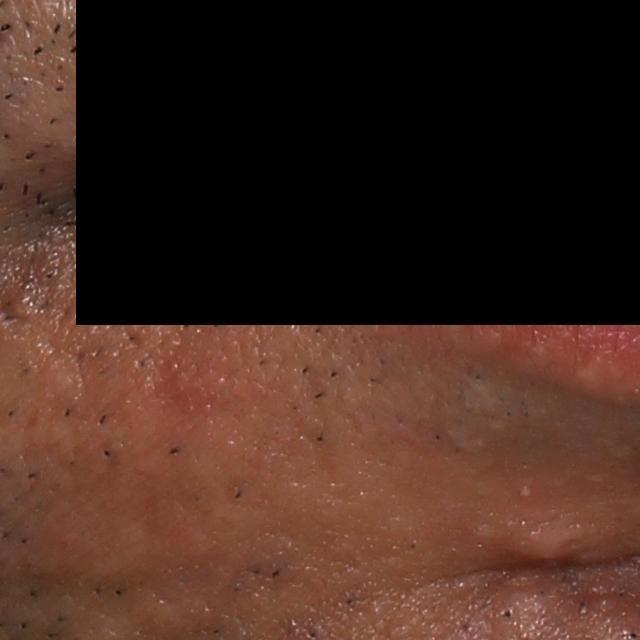hypertrophic_scar: (172, 418, 276, 545), (60, 513, 177, 584), (484, 502, 620, 561), (488, 565, 565, 639), (135, 584, 220, 639), (461, 379, 519, 434)
